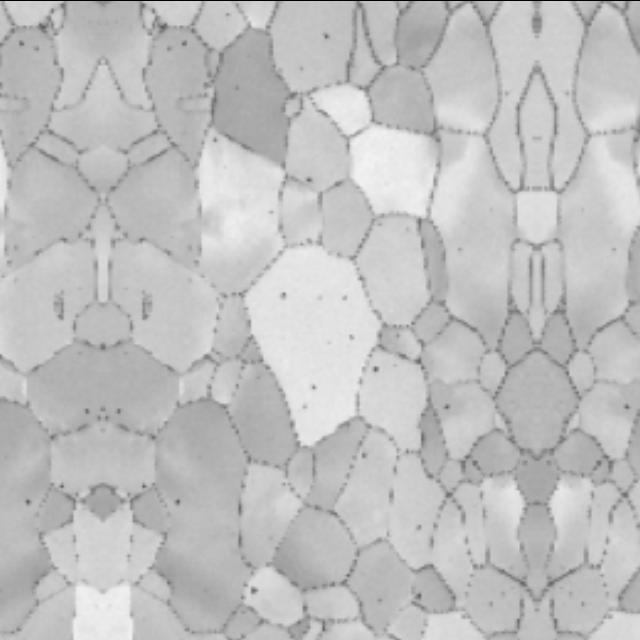good_void: (300, 171, 316, 187), (12, 36, 27, 51), (318, 28, 334, 42), (177, 36, 191, 50), (305, 381, 320, 394), (244, 583, 260, 595), (342, 331, 356, 344), (169, 496, 182, 509), (22, 496, 35, 509), (275, 286, 287, 300), (439, 400, 451, 412), (623, 400, 635, 412), (371, 363, 382, 374), (338, 293, 352, 301), (265, 207, 274, 216), (57, 479, 66, 488), (413, 521, 423, 529), (299, 403, 311, 409), (138, 479, 147, 487), (212, 135, 220, 143), (358, 451, 366, 459), (414, 591, 421, 600)
